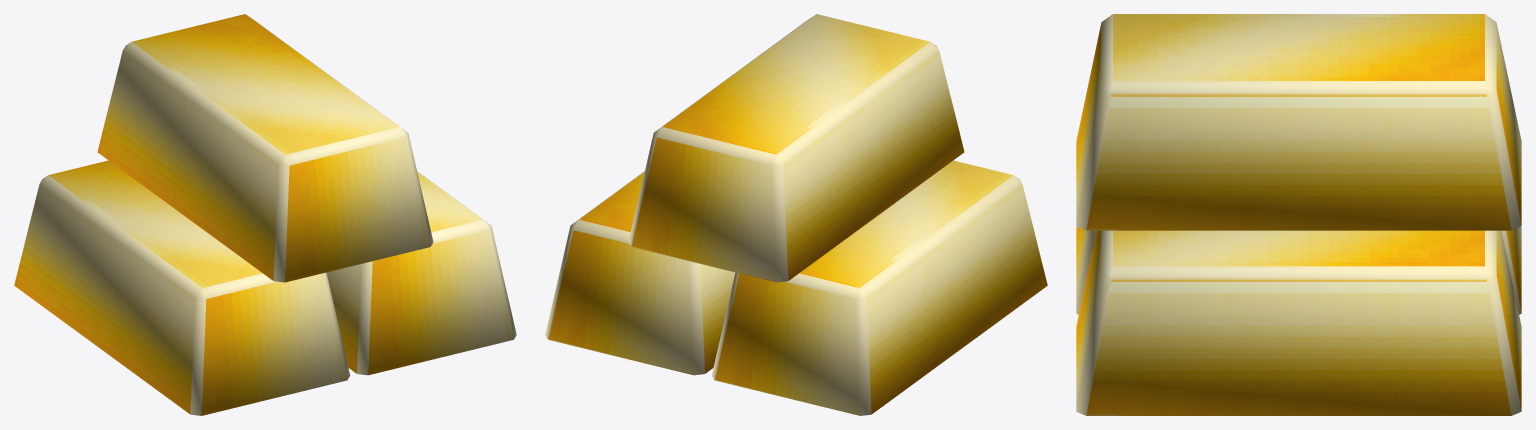
The model's file is Gold_ingot01.fbx.
The picture shows the model from 3 angles, left to right: view 1: azimuth 30°, elevation 25°; view 2: azimuth 150°, elevation 25°; view 3: azimuth 270°, elevation 25°; orthographic projection. The views are drawn at different scales.
Visible parts, largest first — view 1: Gold_ingot01; view 2: Gold_ingot01; view 3: Gold_ingot01.
Part boxes in pixels (bbox=[...]): Gold_ingot01: bbox=[14, 14, 516, 415]; Gold_ingot01: bbox=[545, 14, 1047, 415]; Gold_ingot01: bbox=[1076, 14, 1521, 415].
Size of the model in its own units: 0.392 by 0.2594 by 0.384.
